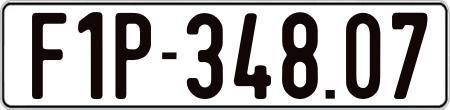0: (343, 10, 383, 102)
1: (75, 11, 105, 102)
3: (185, 13, 227, 101)
4: (231, 11, 270, 103)
7: (389, 12, 429, 98)
8: (282, 10, 322, 99)
F: (30, 13, 67, 103)
P: (115, 11, 153, 100)
